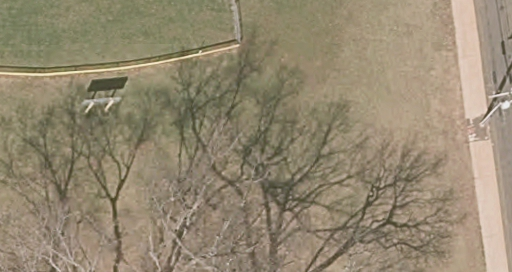DT: (479, 89, 512, 128)
